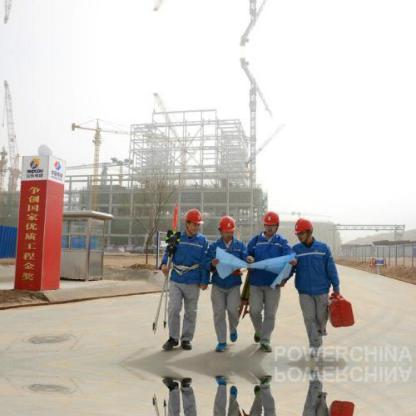helmet: (257, 207, 283, 232), (183, 202, 206, 230), (216, 217, 237, 237), (293, 214, 313, 234)
